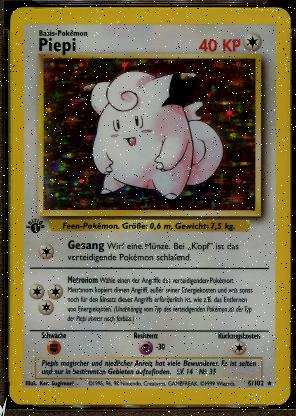Card: (7, 6, 291, 406)
